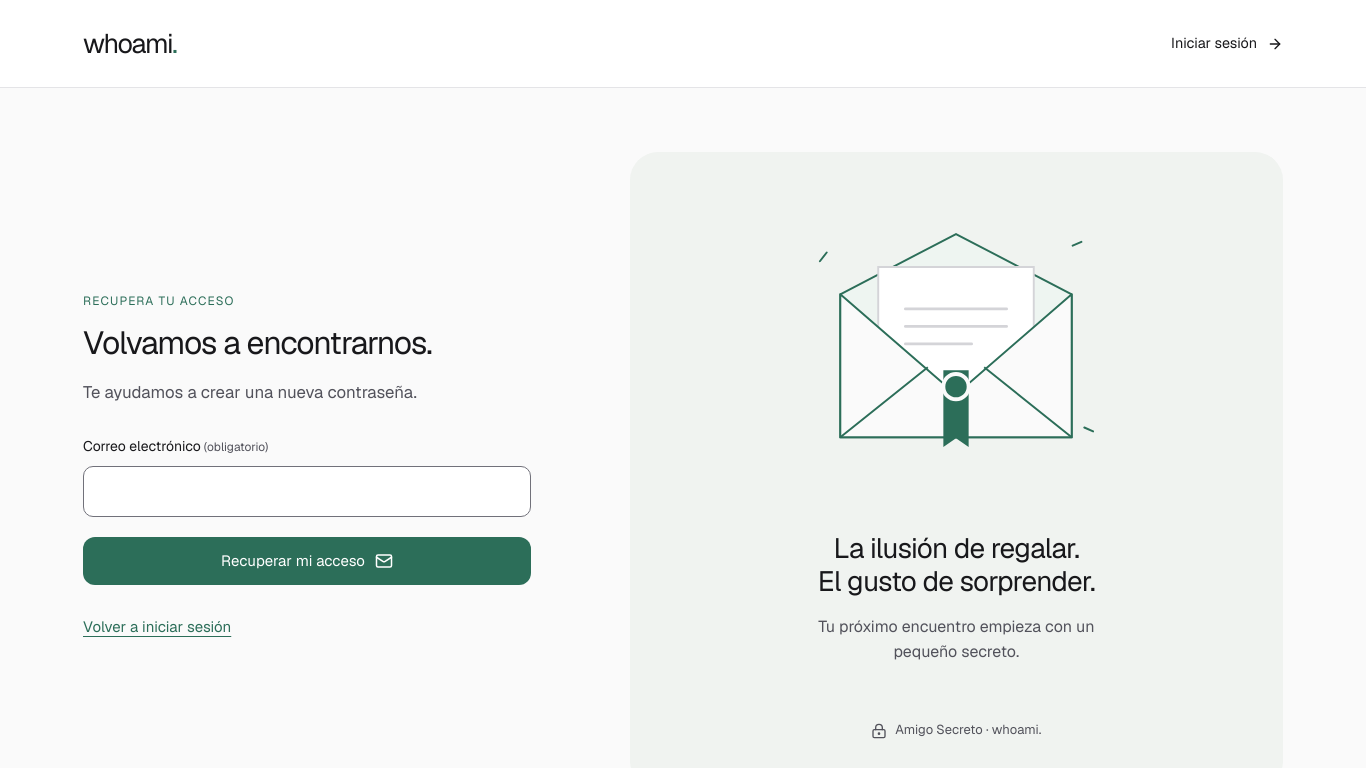
Test: Recuperación y recursos externos › la recuperación no revela si existe la cuenta
The width and height of the screenshot is (1366, 768).
Type "desconocido@example.test" into the field labelled "Correo electrónico (obligatorio)".
click(307, 492); type("desconocido@example.test")  # box [83,466,531,517]
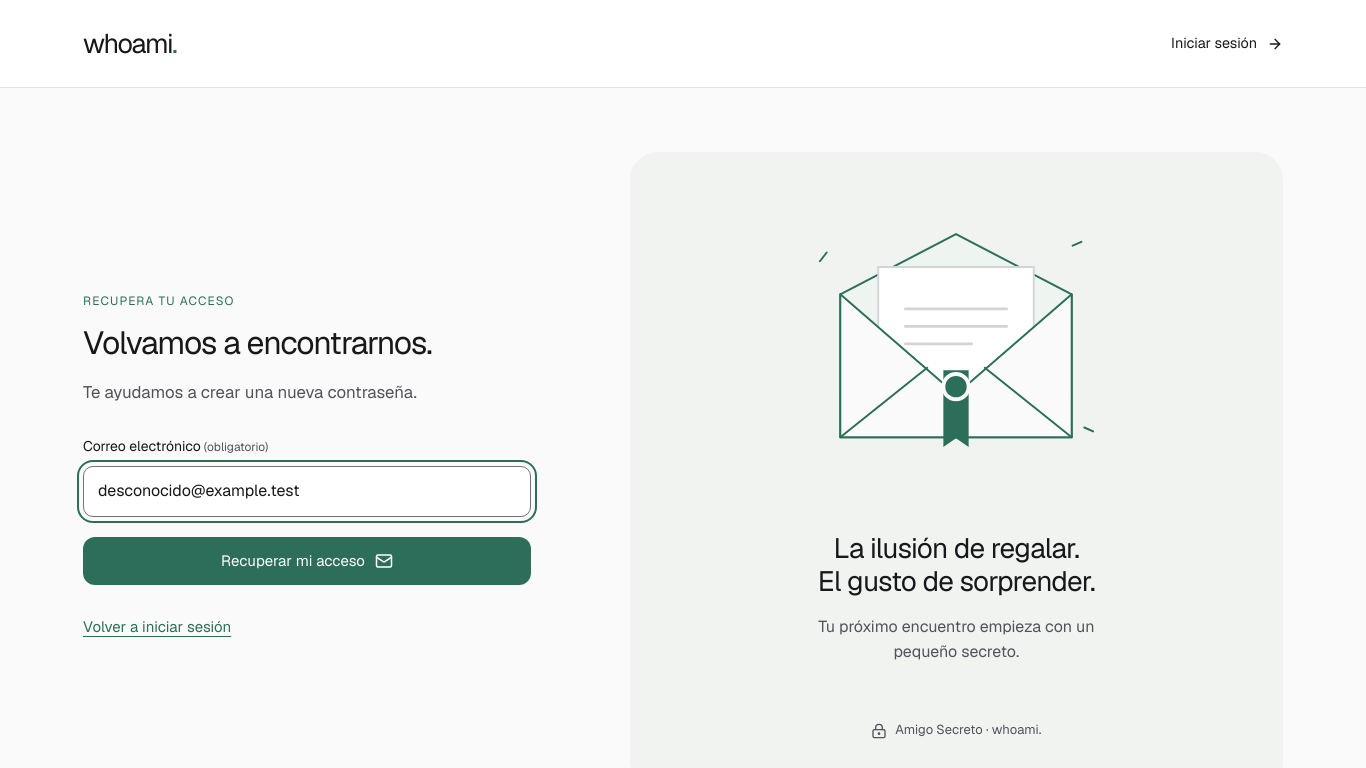
Click the button "Recuperar mi acceso".
click(307, 561)  # box [83,537,531,585]
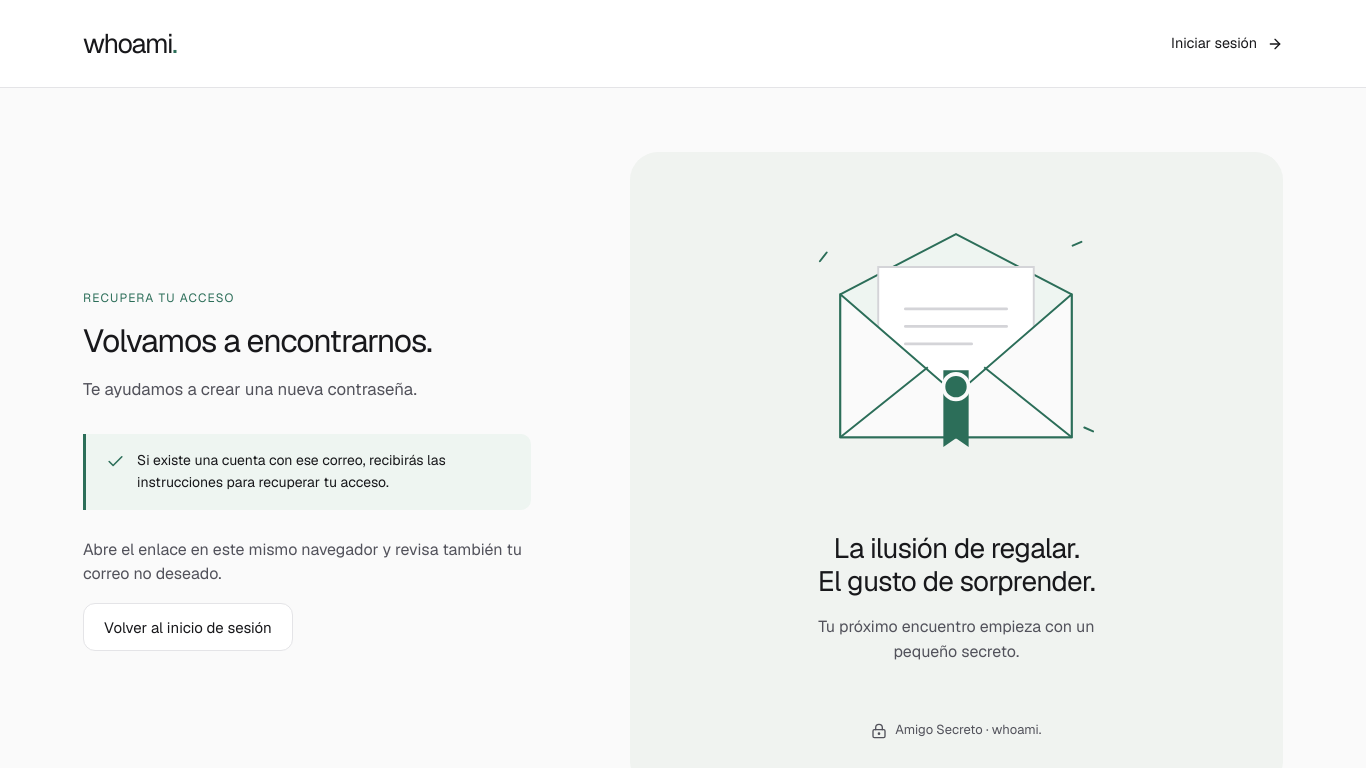
Now the text "Si existe una cuenta con ese correo" is shown, box [137,451,446,491]
